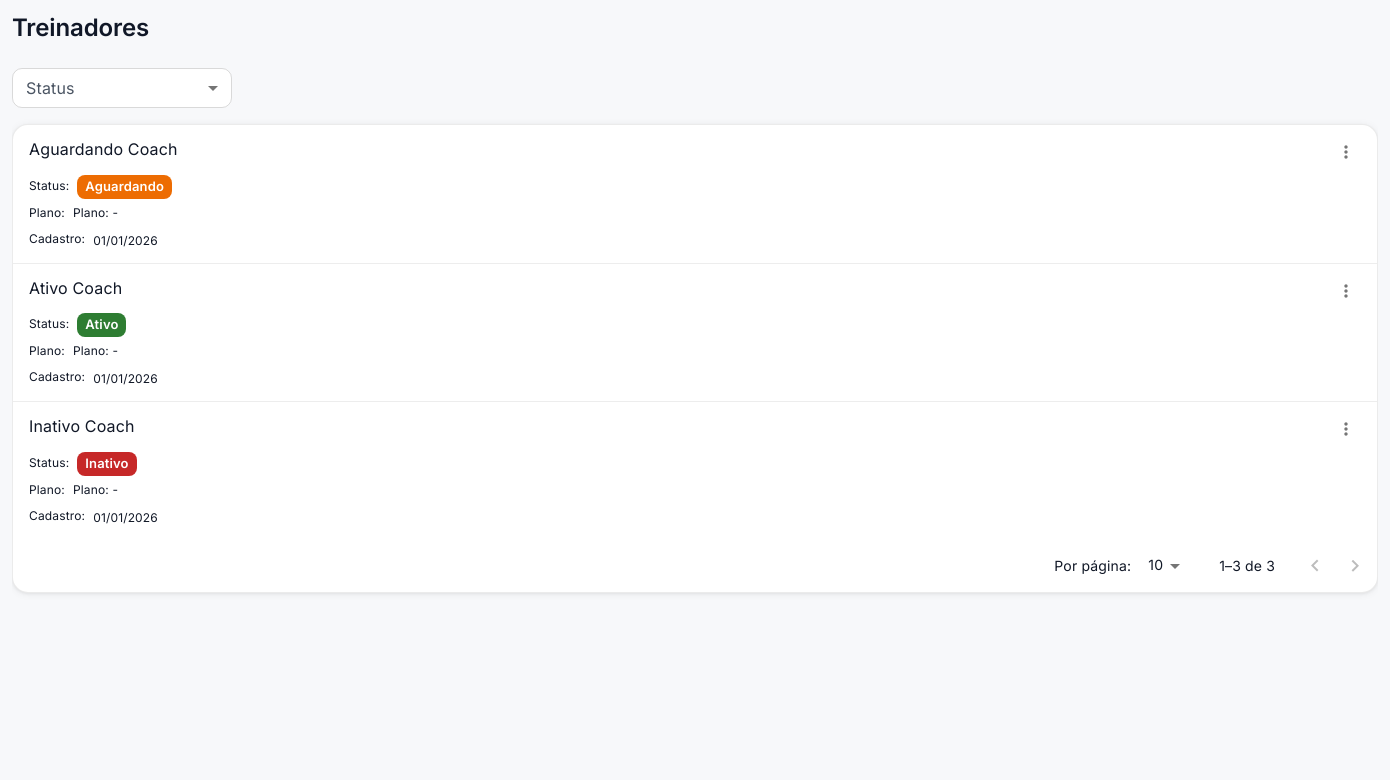
Test: /admin/treinadores — ações › mobile (<md) → kebab de ações › abre kebab do treinador Aguardando e expõe Aprovar/Reprovar/Conceder cortesia/Ver detalhe
Expected: the text "Aguardando Coach" is shown, [29,139,178,159]
Click the button named "Ações de Aguardando Coach": (1346, 152) [1331,137,1361,167]
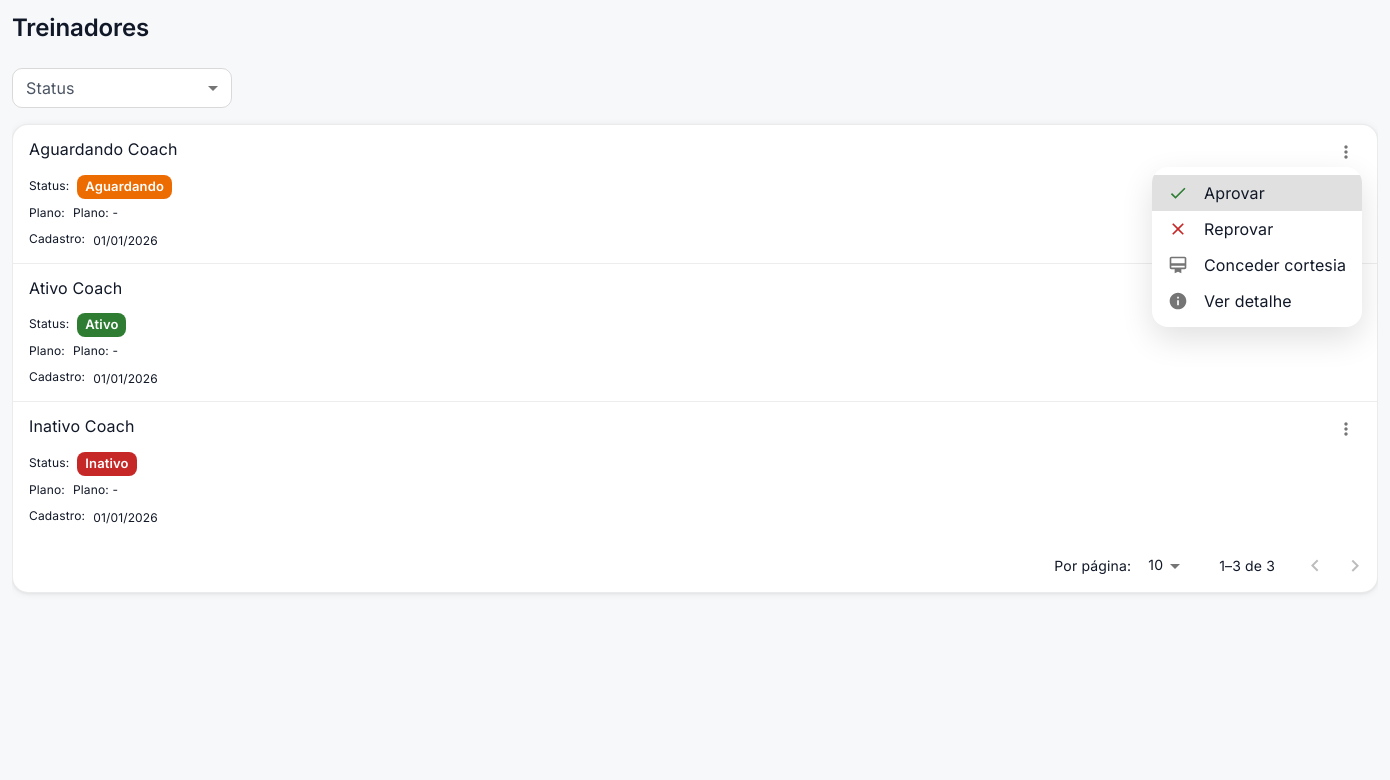
Expected: the text "Aprovar" is shown, [1204,183,1265,203]
Expected: the text "Reprovar" is shown, [1204,219,1273,239]
Expected: the text "Conceder cortesia" is shown, [1204,253,1346,277]
